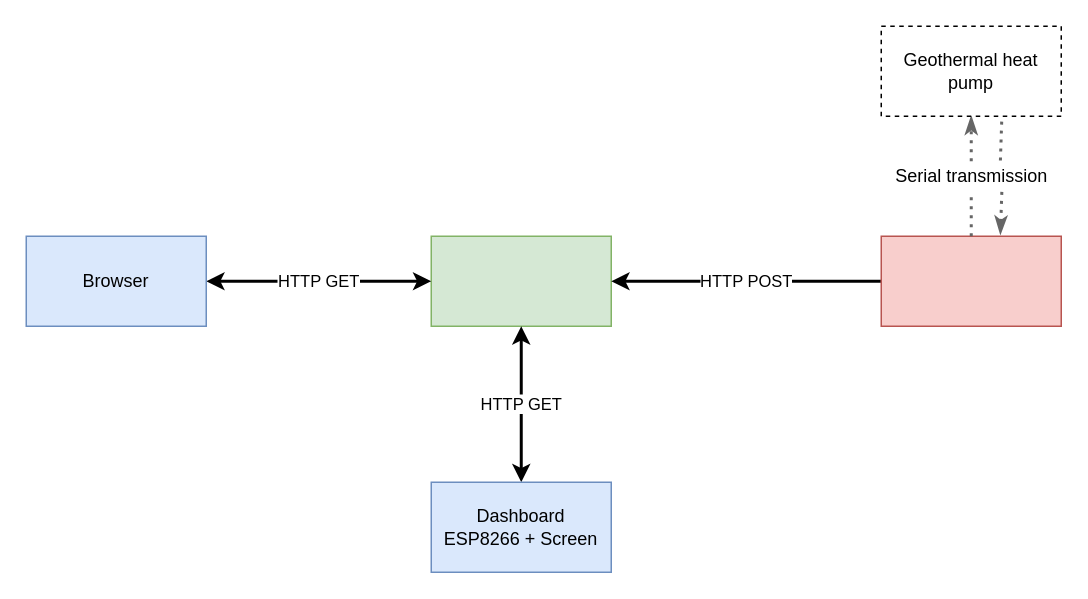
Some shapes in this 1088 by 599 pixel diagram are drawn without their labels. The centre of each missing label's shape, as x and y in pixels:
"HTTP Server Raspberry Pi" goes at (x=520, y=280).
"Remote IO ESP8266" goes at (x=970, y=280).
